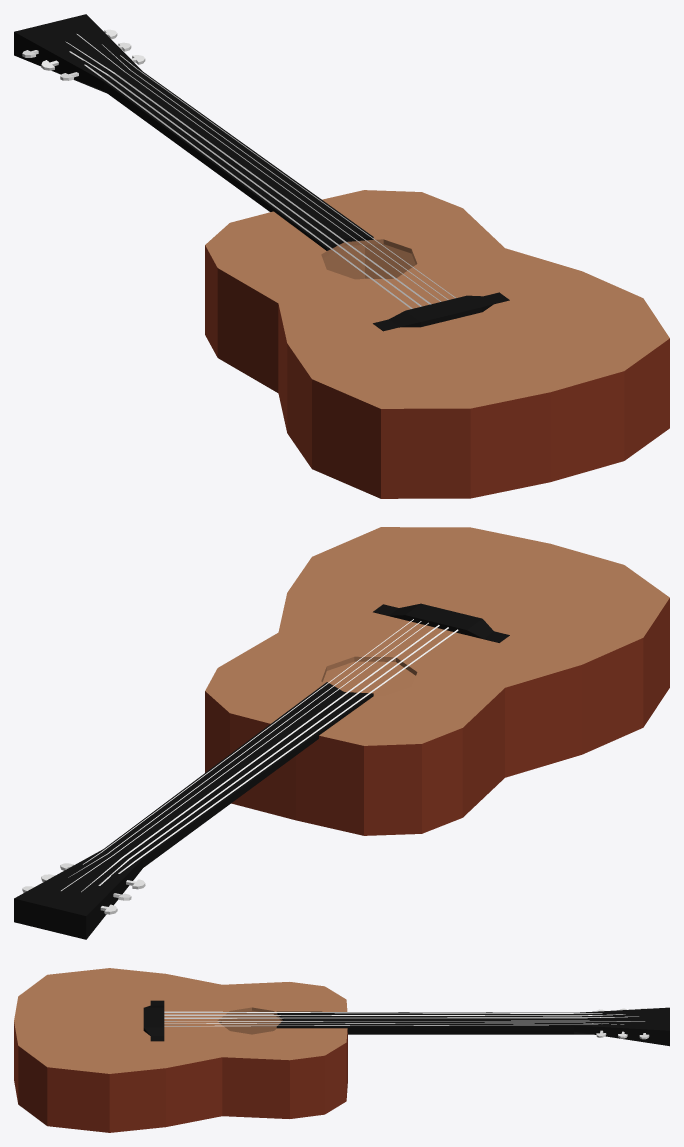
The model's file is Guitare.fbx.
3 renders of one model, top to bottom at view 1: azimuth 30°, elevation 25°; view 2: azimuth 150°, elevation 25°; view 3: azimuth 270°, elevation 25°, orthographic. The views are drawn at different scales.
Parts seen in each view (by area): view 1: Guitare; view 2: Guitare; view 3: Guitare.
Boxes of the visible parts, x1,y1,x2,y2 form: Guitare: (14, 14, 669, 498); Guitare: (14, 527, 669, 939); Guitare: (14, 968, 669, 1132).
Size of the model in its own units: 36.62 by 10.04 by 95.8.
